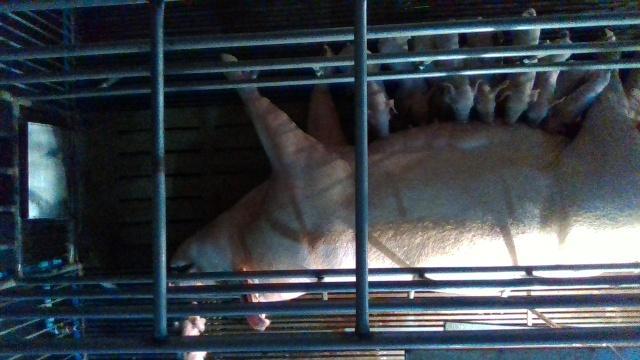piglet: (337, 42, 398, 137), (378, 37, 436, 127), (498, 8, 541, 125), (527, 29, 574, 128), (434, 33, 484, 123), (547, 70, 610, 131), (468, 32, 508, 123), (175, 316, 205, 360)
sow-sleep-lactate: (173, 28, 640, 330)
